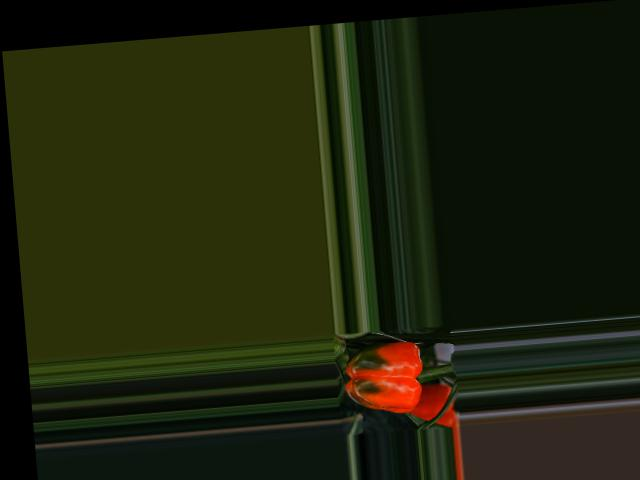bell_pepper: (335, 329, 435, 421)
